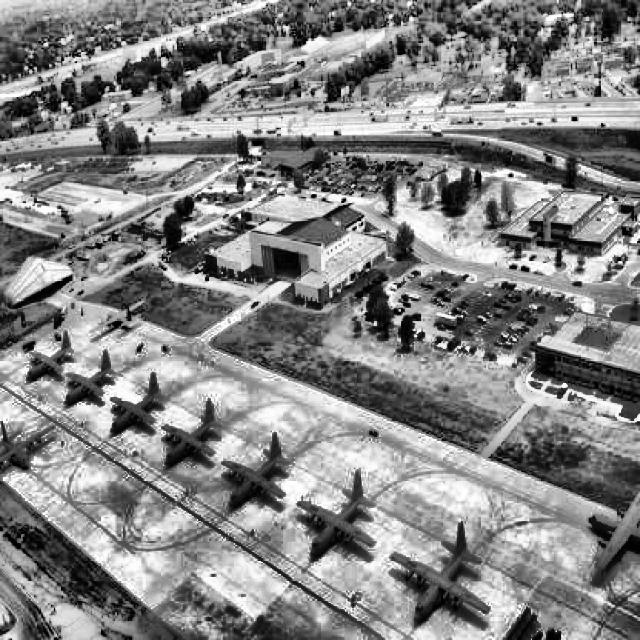C130: (390, 520, 492, 623), (296, 470, 378, 558), (221, 432, 290, 508), (587, 490, 639, 573), (161, 398, 222, 468), (109, 372, 165, 436), (1, 418, 56, 474), (64, 348, 116, 407), (26, 329, 74, 382), (90, 298, 145, 334)
